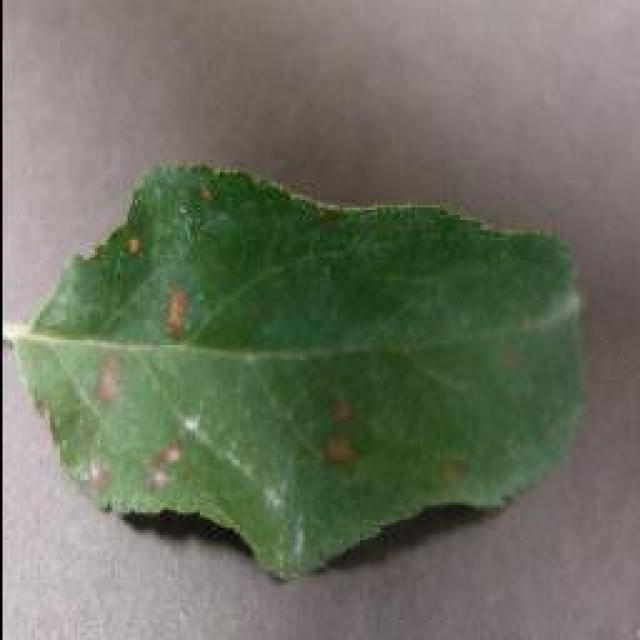apple healthy: (2, 155, 590, 583)
